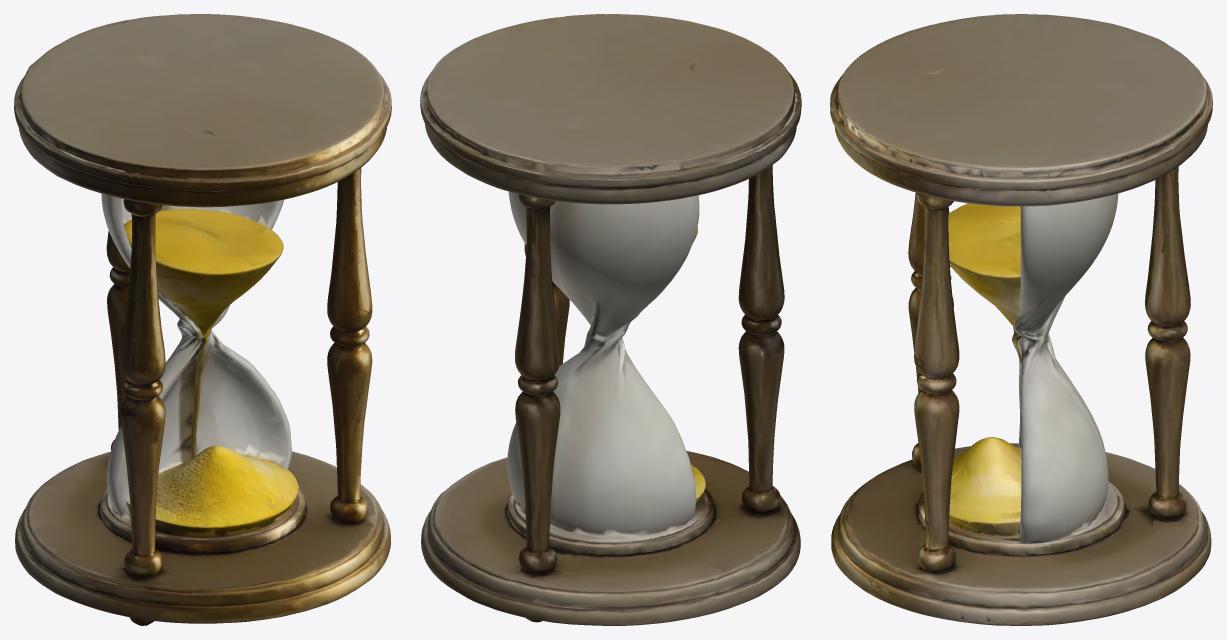
Rendered from hourglass.glb.
3 views of the same model, side by side, from view 1: azimuth 30°, elevation 25°; view 2: azimuth 150°, elevation 25°; view 3: azimuth 270°, elevation 25° (orthographic).
Parts seen in each view (by area): view 1: node_943a9bcf-688f-4faa-9010-c6191b49449e; view 2: node_943a9bcf-688f-4faa-9010-c6191b49449e; view 3: node_943a9bcf-688f-4faa-9010-c6191b49449e.
Boxes of the visible parts, x1=… form: node_943a9bcf-688f-4faa-9010-c6191b49449e: x1=14, y1=14, x2=391, y2=625; node_943a9bcf-688f-4faa-9010-c6191b49449e: x1=420, y1=14, x2=801, y2=625; node_943a9bcf-688f-4faa-9010-c6191b49449e: x1=830, y1=14, x2=1212, y2=625.
Bounding box in the file's own units: 0.7108 × 0.9801 × 0.7126.
Materials: 1 (1 with a texture image).
